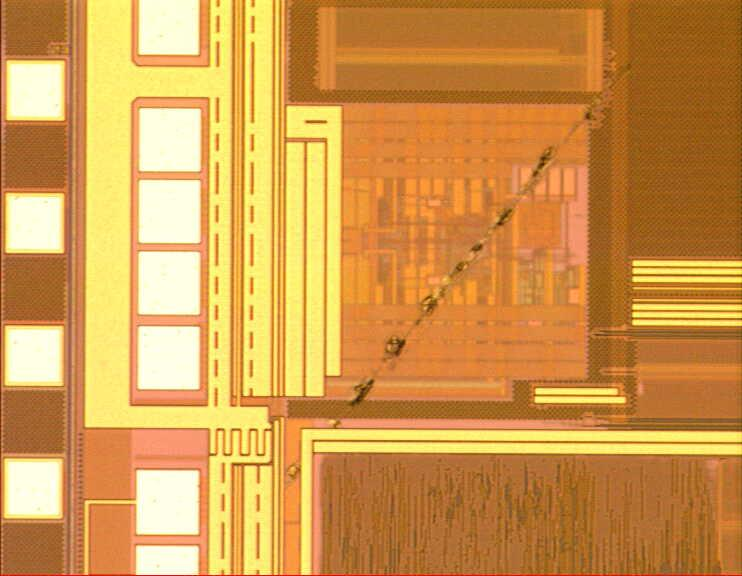SCRATCH: (259, 51, 647, 505)
